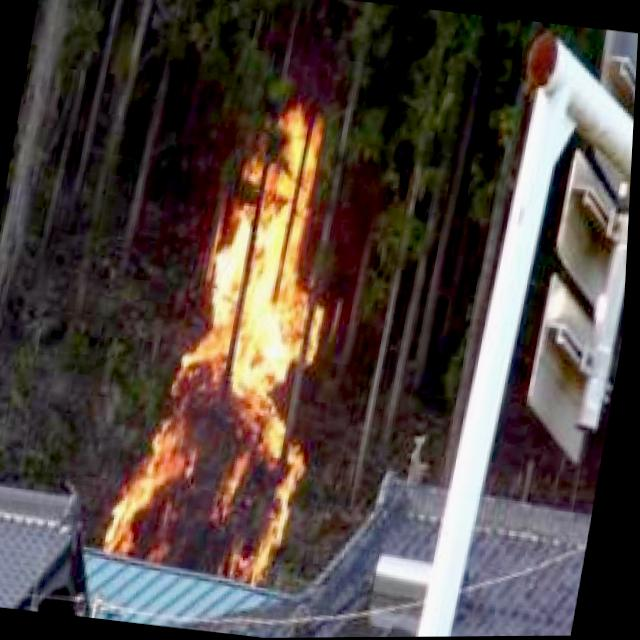helmet: (114, 86, 371, 585)
